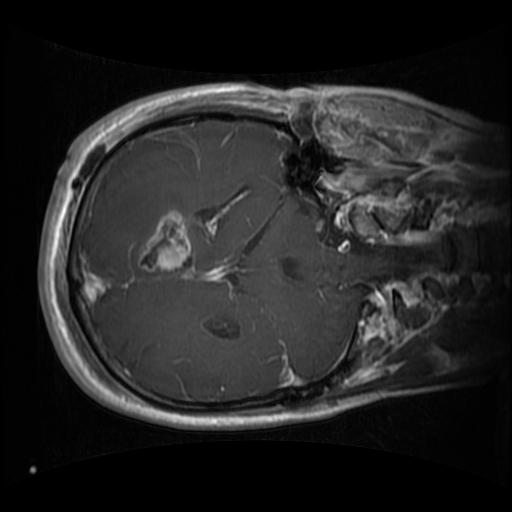glioma: (128, 208, 198, 288)
